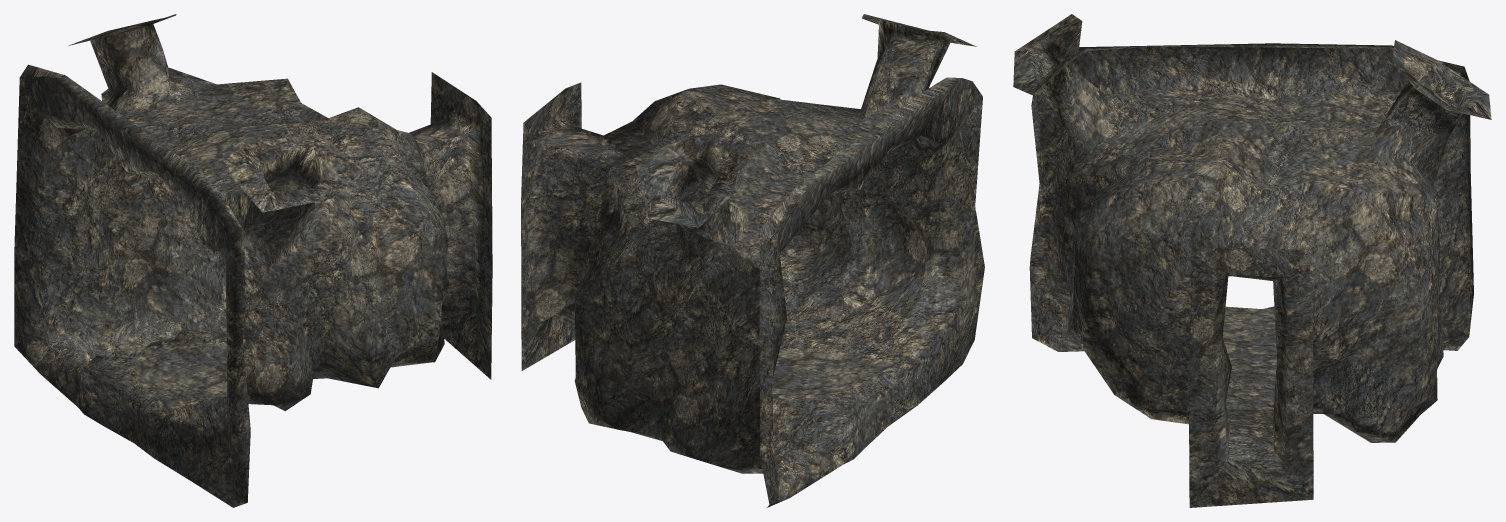
File: Module15A_LOD2.fbx
The picture shows the model from 3 angles, left to right: view 1: azimuth 30°, elevation 25°; view 2: azimuth 150°, elevation 25°; view 3: azimuth 270°, elevation 25°; orthographic projection. The views are drawn at different scales.
Visible parts, largest first — view 1: cave_el15A_1800_Group31555; view 2: cave_el15A_1800_Group31555; view 3: cave_el15A_1800_Group31555.
Boxes of the visible parts, x1,y1,x2,y2 form: cave_el15A_1800_Group31555: (14, 14, 492, 507); cave_el15A_1800_Group31555: (521, 14, 984, 507); cave_el15A_1800_Group31555: (1013, 14, 1491, 507).
Size of the model in its own units: 32.26 by 30.65 by 38.84.
